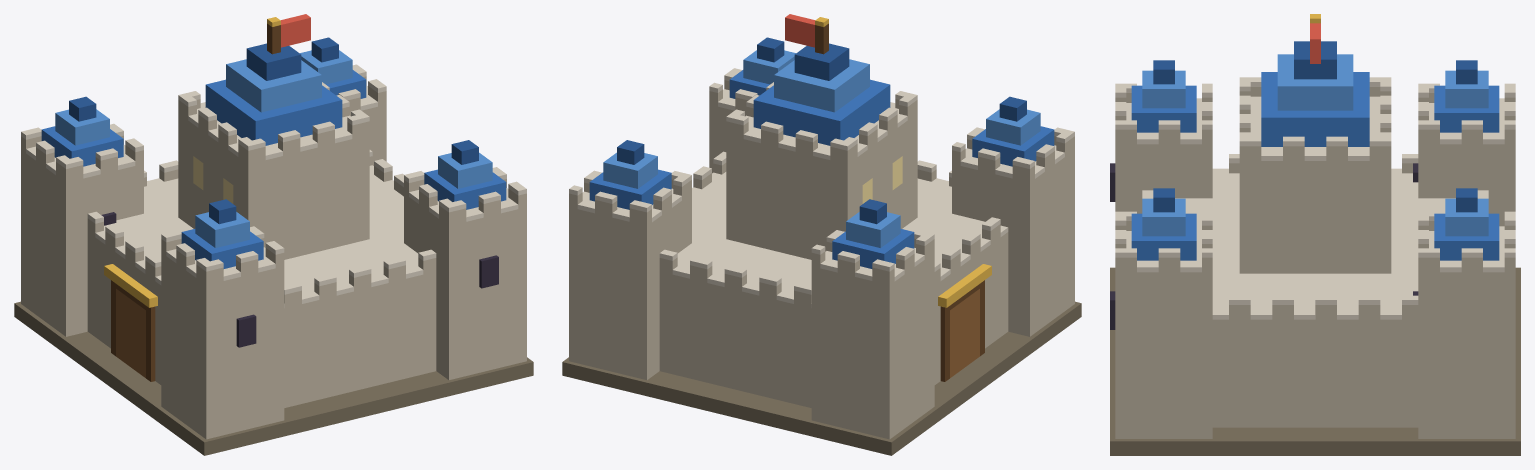
File: castle.glb
3 renders of one model, left to right at view 1: azimuth 30°, elevation 25°; view 2: azimuth 150°, elevation 25°; view 3: azimuth 270°, elevation 25°, orthographic. The views are drawn at different scales.
Visible parts, largest first — view 1: model_0; view 2: model_0; view 3: model_0.
Boxes of the visible parts, left/top/right/bottom form: model_0: left=14, top=14, right=533, bottom=455; model_0: left=562, top=14, right=1081, bottom=455; model_0: left=1110, top=14, right=1520, bottom=455.
Bounding box in the file's own units: 3.04 × 2.88 × 3.04.
